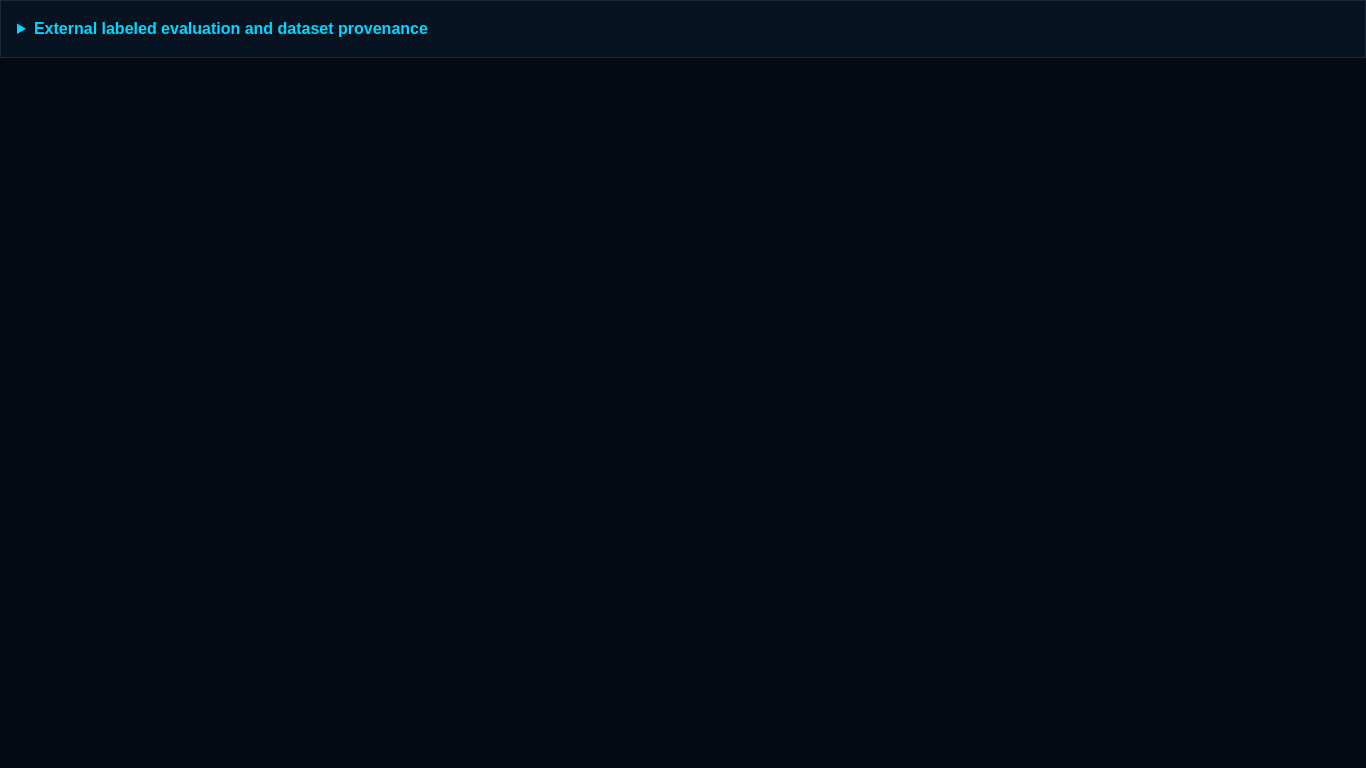
Test: Phase2 operational controls › rejects invalid evaluation JSON locally without inventing ground truth
The image size is (1366, 768).
Click the heading "External labeled evaluation and dataset provenance": (231, 28) [34,20,428,37]
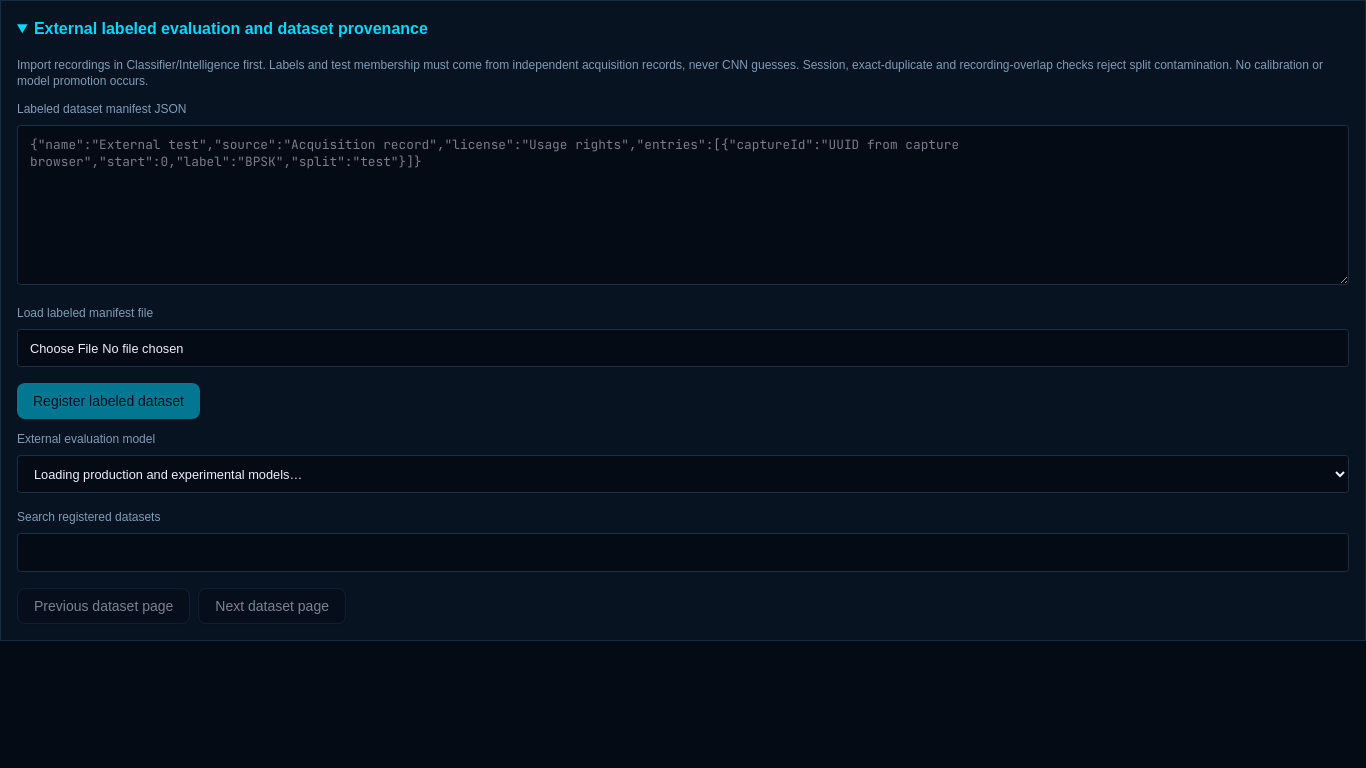
Replace the text in the text box labelled "Labeled dataset manifest JSON" with "broken json": (683, 205) [17,125,1349,285]
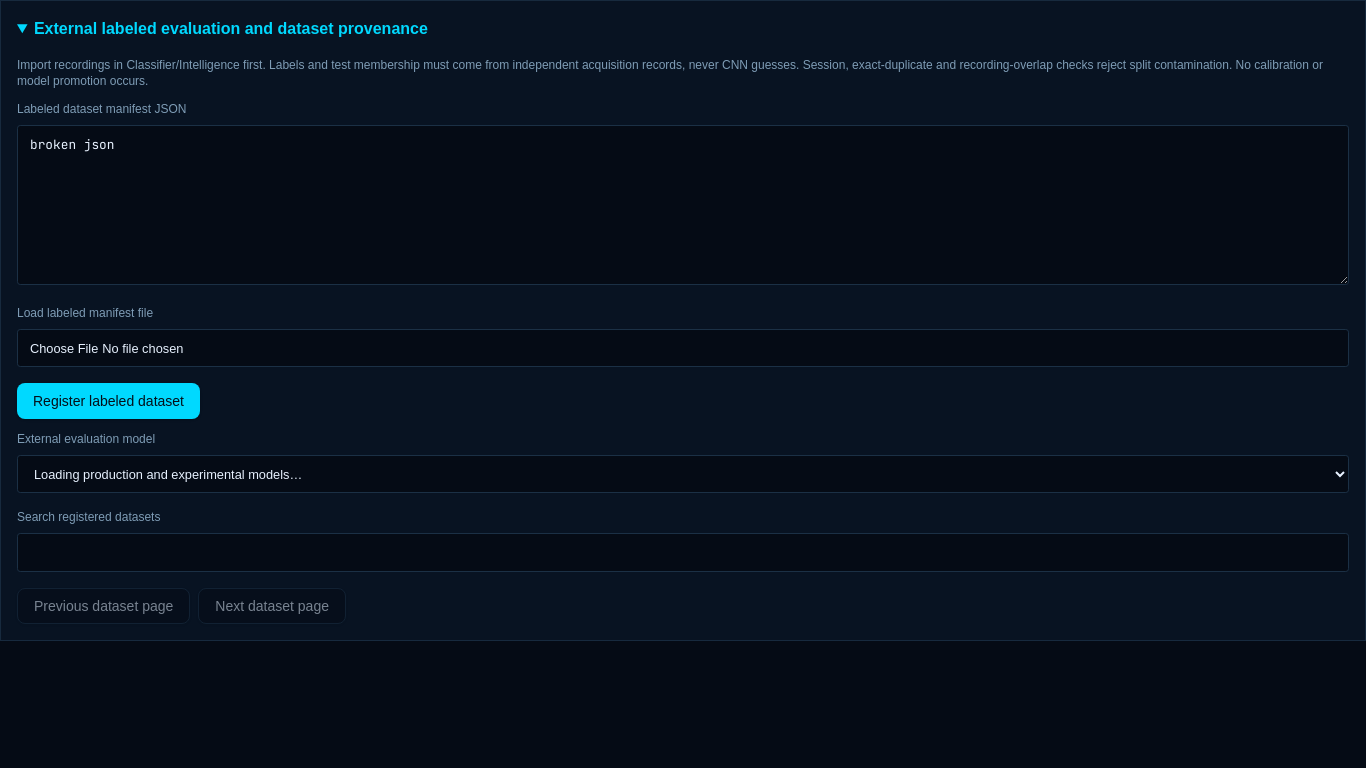
Click the button "Register labeled dataset": (108, 401) [17,383,200,419]
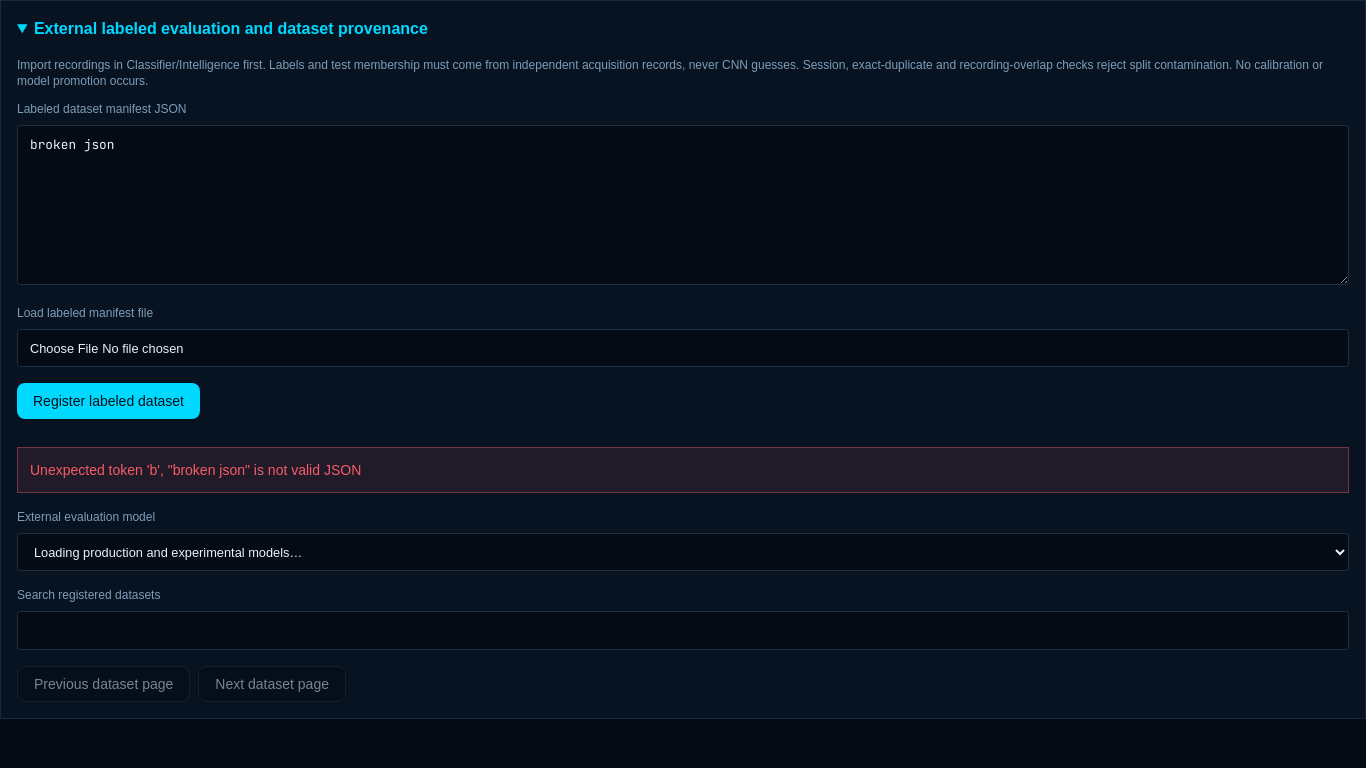
expect the message is shown: met, box [17,447,1349,493]
